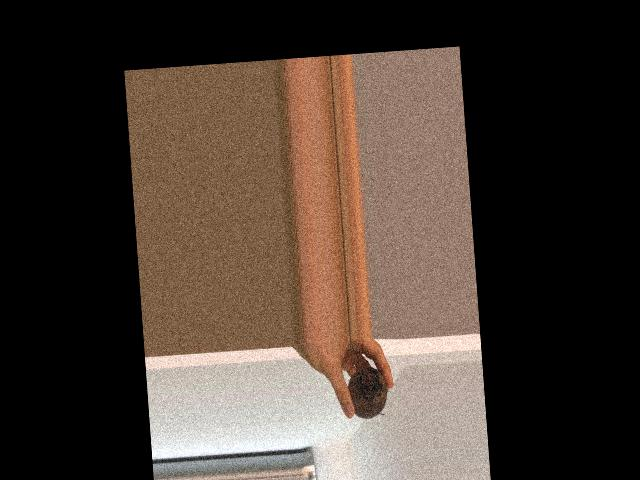beet: (343, 336, 390, 420)
